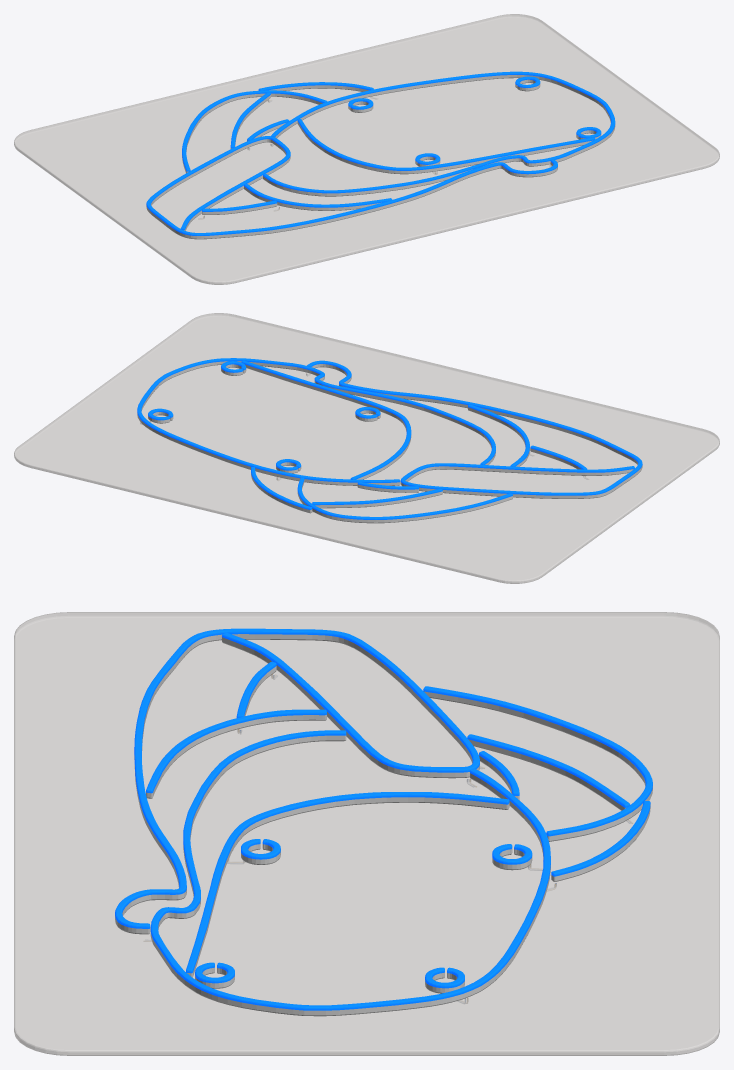
The picture shows the model from 3 angles, top to bottom: view 1: azimuth 30°, elevation 25°; view 2: azimuth 150°, elevation 25°; view 3: azimuth 270°, elevation 25°; orthographic projection. The views are drawn at different scales.
Parts seen in each view (by area): view 1: Plane.038, Plane.037; view 2: Plane.038, Plane.037; view 3: Plane.038, Plane.037.
Boxes of the visible parts, x1,y1,x2,y2 form: Plane.038: (14,14,719,284); Plane.037: (146,71,615,239); Plane.038: (14,313,719,583); Plane.037: (137,358,642,523); Plane.038: (14,612,719,1055); Plane.037: (115,628,652,1016).
Bounding box in the file's own units: 3.07 × 0.056 × 2.08.
